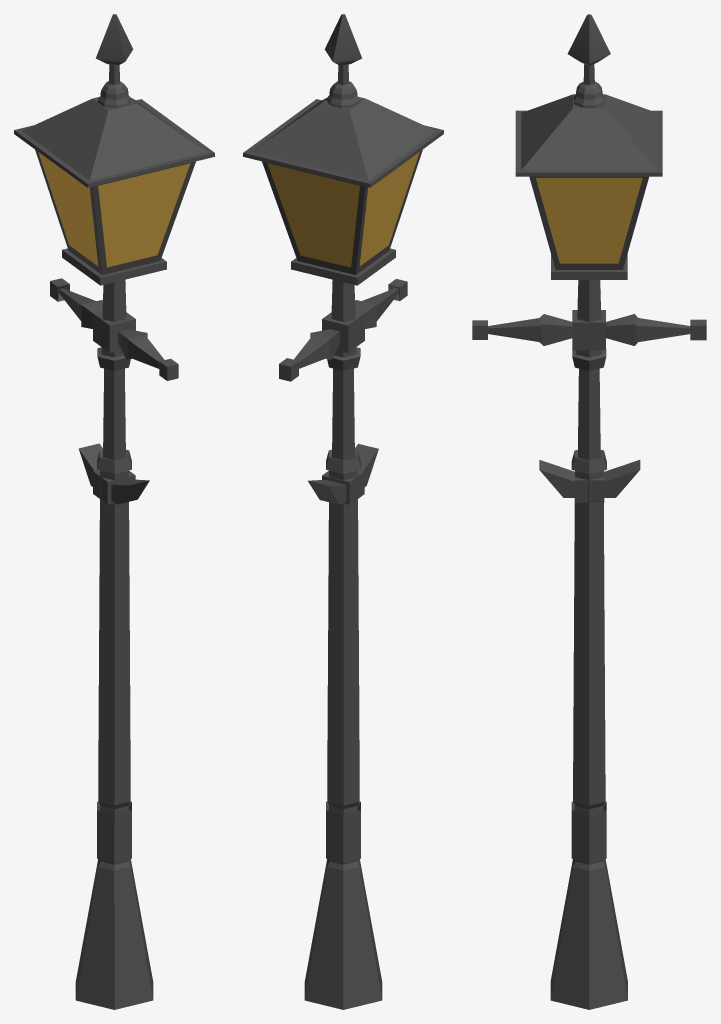
Rendered from FMP_Street_Lamp_Shaded.fbx.
3 renders of one model, left to right at view 1: azimuth 30°, elevation 25°; view 2: azimuth 150°, elevation 25°; view 3: azimuth 270°, elevation 25°, orthographic.
Visible parts, largest first — view 1: pCube84; view 2: pCube84; view 3: pCube84.
Boxes of the visible parts, x1,y1,x2,y2 form: pCube84: [14, 14, 214, 1009]; pCube84: [243, 14, 443, 1009]; pCube84: [472, 14, 706, 1009].
Bounding box in the file's own units: 133 × 971 × 211.
